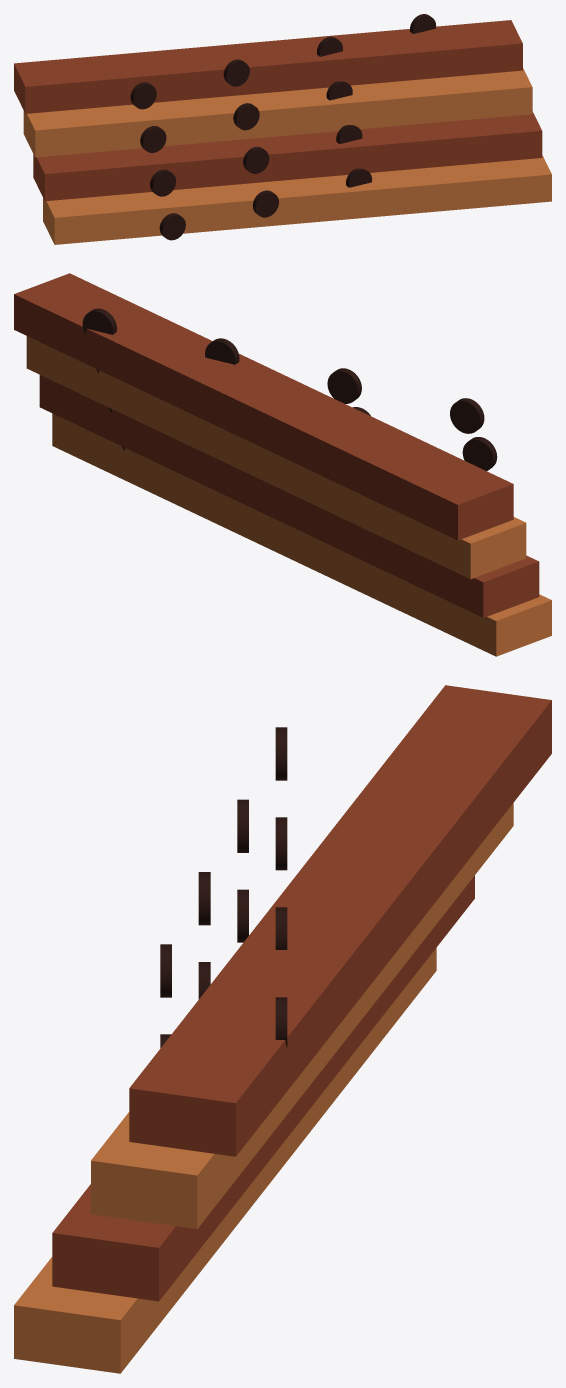
The model's file is copper-bus-bars.glb.
3 views of the same model, one above another, from view 1: azimuth 30°, elevation 25°; view 2: azimuth 150°, elevation 25°; view 3: azimuth 270°, elevation 25° (orthographic). The views are drawn at different scales.
Visible parts, largest first — view 1: copper-bus-bars; view 2: copper-bus-bars; view 3: copper-bus-bars.
Boxes of the visible parts, bbox=[...] form: copper-bus-bars: bbox=[14, 14, 551, 244]; copper-bus-bars: bbox=[14, 273, 551, 656]; copper-bus-bars: bbox=[14, 685, 551, 1373].
Bounding box in the file's own units: 3.35 × 1.12 × 1.82.
